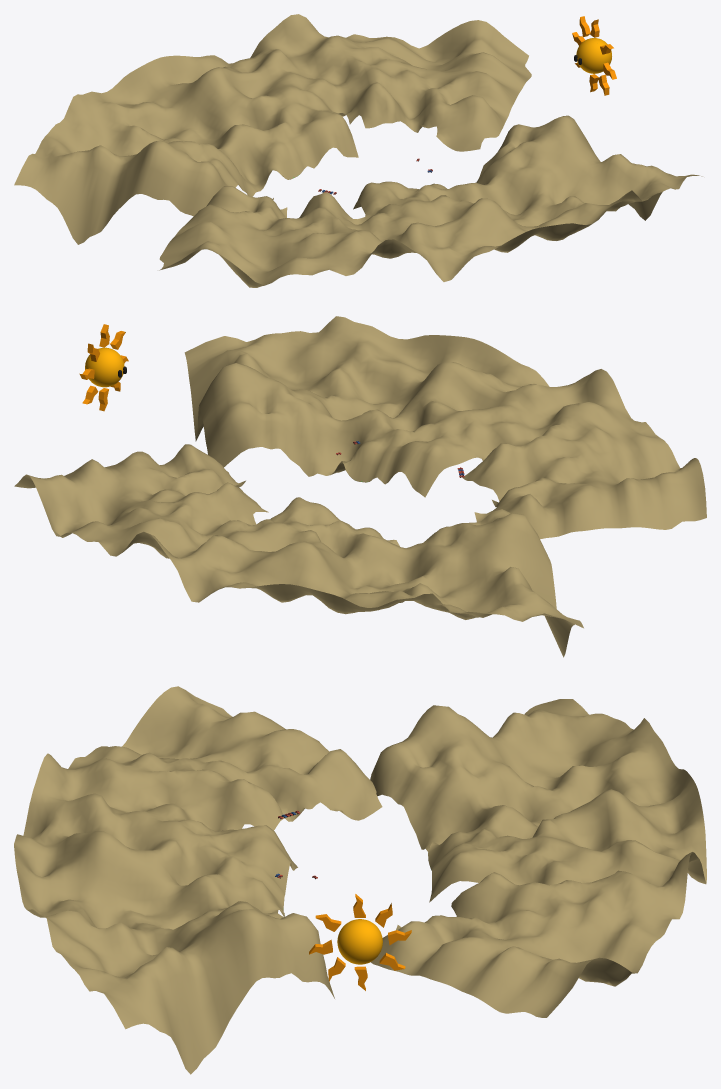
The model's file is paysage_01.FBX.
3 views of the same model, one above another, from view 1: azimuth 30°, elevation 25°; view 2: azimuth 150°, elevation 25°; view 3: azimuth 270°, elevation 25° (orthographic). The views are drawn at different scales.
Parts seen in each view (by area): view 1: msh_mountains_01, msh_mountains_00, msh_sun_01; view 2: msh_mountains_00, msh_mountains_01, msh_sun_01; view 3: msh_mountains_00, msh_mountains_01, msh_sun_01.
Boxes of the visible parts, bbox=[...] form: msh_mountains_01: bbox=[14, 14, 531, 244]; msh_mountains_00: bbox=[159, 115, 702, 287]; msh_sun_01: bbox=[572, 16, 616, 95]; msh_mountains_00: bbox=[184, 316, 706, 539]; msh_mountains_01: bbox=[14, 444, 583, 657]; msh_sun_01: bbox=[79, 324, 128, 411]; msh_mountains_00: bbox=[14, 686, 382, 1074]; msh_mountains_01: bbox=[370, 699, 706, 1017]; msh_sun_01: bbox=[309, 894, 411, 990].
Size of the model in its own units: 166260 by 45058 by 149115.
